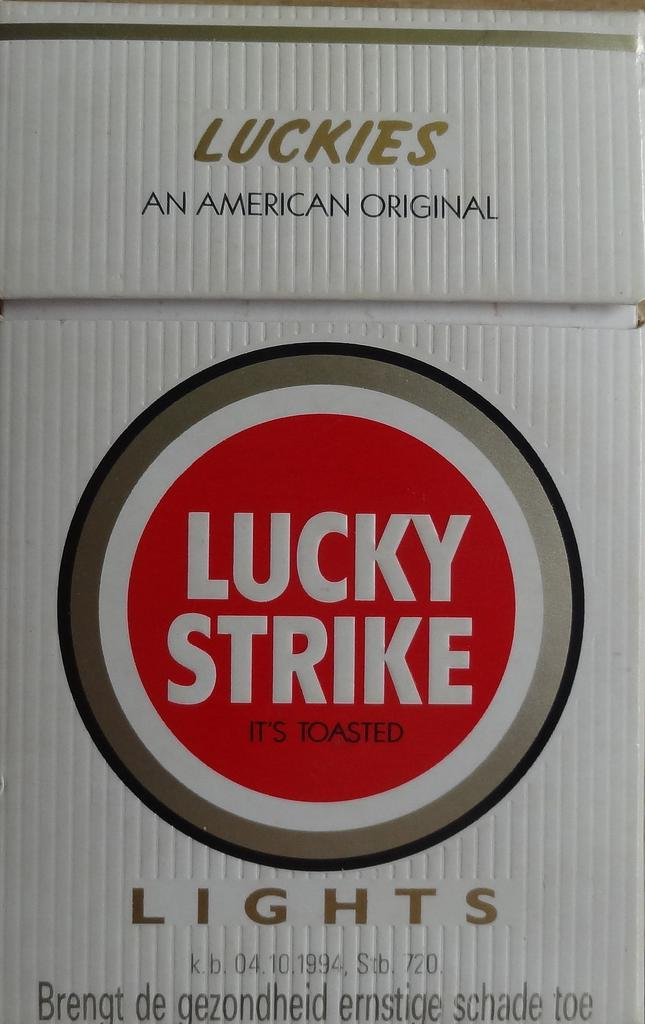lucky_strike_red: (3, 7, 637, 1024)
